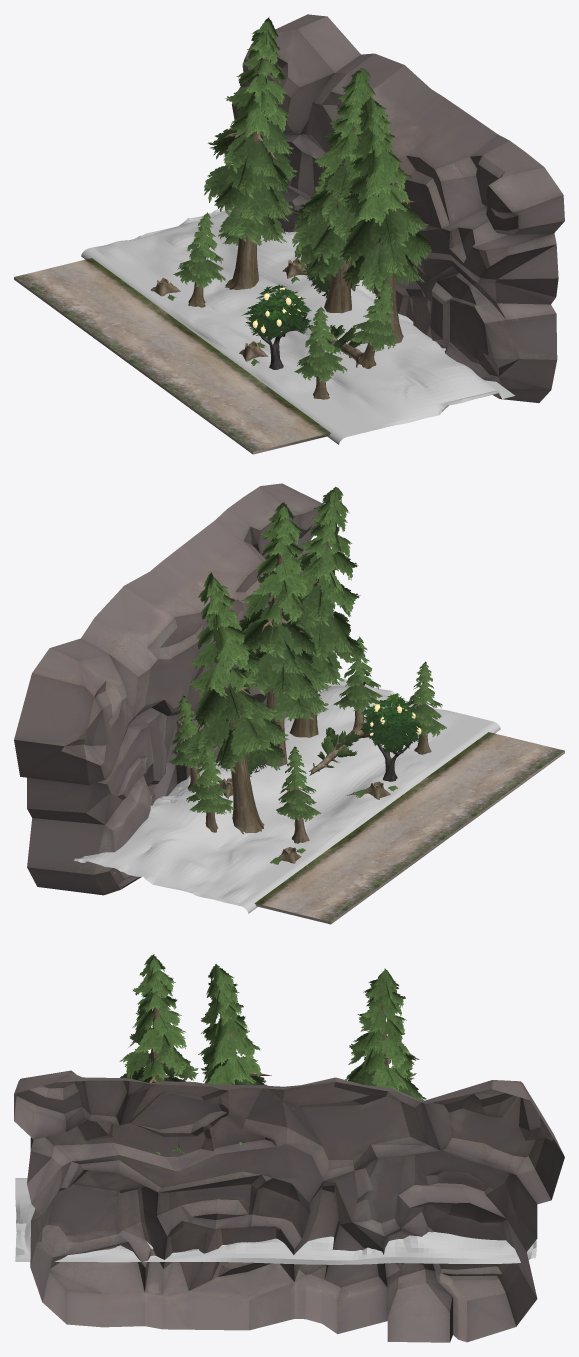
Rendered from menu.fbx.
3 views of the same model, one above another, from view 1: azimuth 30°, elevation 25°; view 2: azimuth 150°, elevation 25°; view 3: azimuth 270°, elevation 25° (orthographic). The views are drawn at different scales.
Visible parts, largest first — view 1: cliff_wall_05.vmdl_c.cliff_wall_05_bg_body_lod0.001, Куб.002, Куб.003, tree_pine_01.vmdl_c.tree_pine_01_inspector.001, tree_pine_01.vmdl_c.tree_pine_01_inspector.002, tree_pine_01.vmdl_c.tree_pine_01_inspector.005, mango_tree.vmdl_c.mango_tree.001, tree_pine_01.vmdl_c.tree_pine_01_model.009, tree_pine_01.vmdl_c.tree_pine_01_model.004, tree_pine_01.vmdl_c.tree_pine_01_model.008, tree_pine_03b.vmdl_c.tree_pine_03b_model; view 2: cliff_wall_05.vmdl_c.cliff_wall_05_bg_body_lod0.001, Куб.002, Куб.003, tree_pine_01.vmdl_c.tree_pine_01_inspector.001, tree_pine_01.vmdl_c.tree_pine_01_inspector.005, tree_pine_01.vmdl_c.tree_pine_01_inspector.002, mango_tree.vmdl_c.mango_tree.001, tree_pine_01.vmdl_c.tree_pine_01_model.009, tree_pine_01.vmdl_c.tree_pine_01_model.002, tree_pine_01.vmdl_c.tree_pine_01_model.008, tree_pine_01.vmdl_c.tree_pine_01_model.004, tree_pine_01.vmdl_c.tree_pine_01_model.005 (+1 smaller); view 3: cliff_wall_05.vmdl_c.cliff_wall_05_bg_body_lod0.001, Куб.002, tree_pine_01.vmdl_c.tree_pine_01_inspector.002, tree_pine_01.vmdl_c.tree_pine_01_inspector.001, tree_pine_01.vmdl_c.tree_pine_01_inspector.005.
Part boxes in pixels (x1,y1,x2,y2): cliff_wall_05.vmdl_c.cliff_wall_05_bg_body_lod0.001: (232, 14, 564, 402); Куб.002: (81, 207, 515, 444); Куб.003: (14, 258, 330, 454); tree_pine_01.vmdl_c.tree_pine_01_inspector.001: (204, 17, 297, 289); tree_pine_01.vmdl_c.tree_pine_01_inspector.002: (339, 96, 431, 345); tree_pine_01.vmdl_c.tree_pine_01_inspector.005: (292, 67, 392, 313); mango_tree.vmdl_c.mango_tree.001: (241, 284, 311, 369); tree_pine_01.vmdl_c.tree_pine_01_model.009: (173, 212, 225, 307); tree_pine_01.vmdl_c.tree_pine_01_model.004: (294, 306, 347, 399); tree_pine_01.vmdl_c.tree_pine_01_model.008: (351, 280, 399, 368); tree_pine_03b.vmdl_c.tree_pine_03b_model: (308, 325, 364, 367); cliff_wall_05.vmdl_c.cliff_wall_05_bg_body_lod0.001: (14, 483, 323, 895); Куб.002: (74, 679, 500, 913); Куб.003: (254, 732, 564, 924); tree_pine_01.vmdl_c.tree_pine_01_inspector.001: (184, 572, 288, 834); tree_pine_01.vmdl_c.tree_pine_01_inspector.005: (232, 502, 331, 766); tree_pine_01.vmdl_c.tree_pine_01_inspector.002: (282, 486, 364, 737); mango_tree.vmdl_c.mango_tree.001: (360, 693, 423, 781); tree_pine_01.vmdl_c.tree_pine_01_model.009: (276, 746, 320, 843); tree_pine_01.vmdl_c.tree_pine_01_model.002: (186, 746, 234, 832); tree_pine_01.vmdl_c.tree_pine_01_model.008: (333, 636, 382, 730); tree_pine_01.vmdl_c.tree_pine_01_model.004: (406, 661, 446, 754); tree_pine_01.vmdl_c.tree_pine_01_model.005: (170, 695, 214, 791); cliff_wall_05.vmdl_c.cliff_wall_05_bg_body_lod0.001: (14, 1070, 564, 1342); Куб.002: (15, 1178, 536, 1264); tree_pine_01.vmdl_c.tree_pine_01_inspector.002: (119, 954, 198, 1154); tree_pine_01.vmdl_c.tree_pine_01_inspector.001: (345, 968, 426, 1100); tree_pine_01.vmdl_c.tree_pine_01_inspector.005: (198, 964, 271, 1145).
Size of the model in its own units: 2390 by 2465 by 3749.
